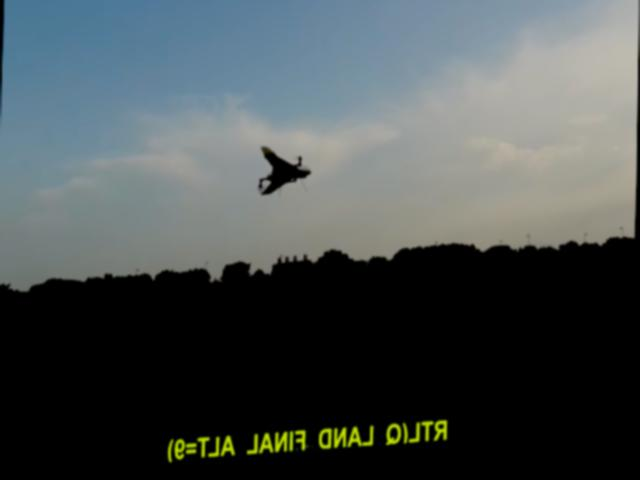plane: (254, 149, 312, 204)
